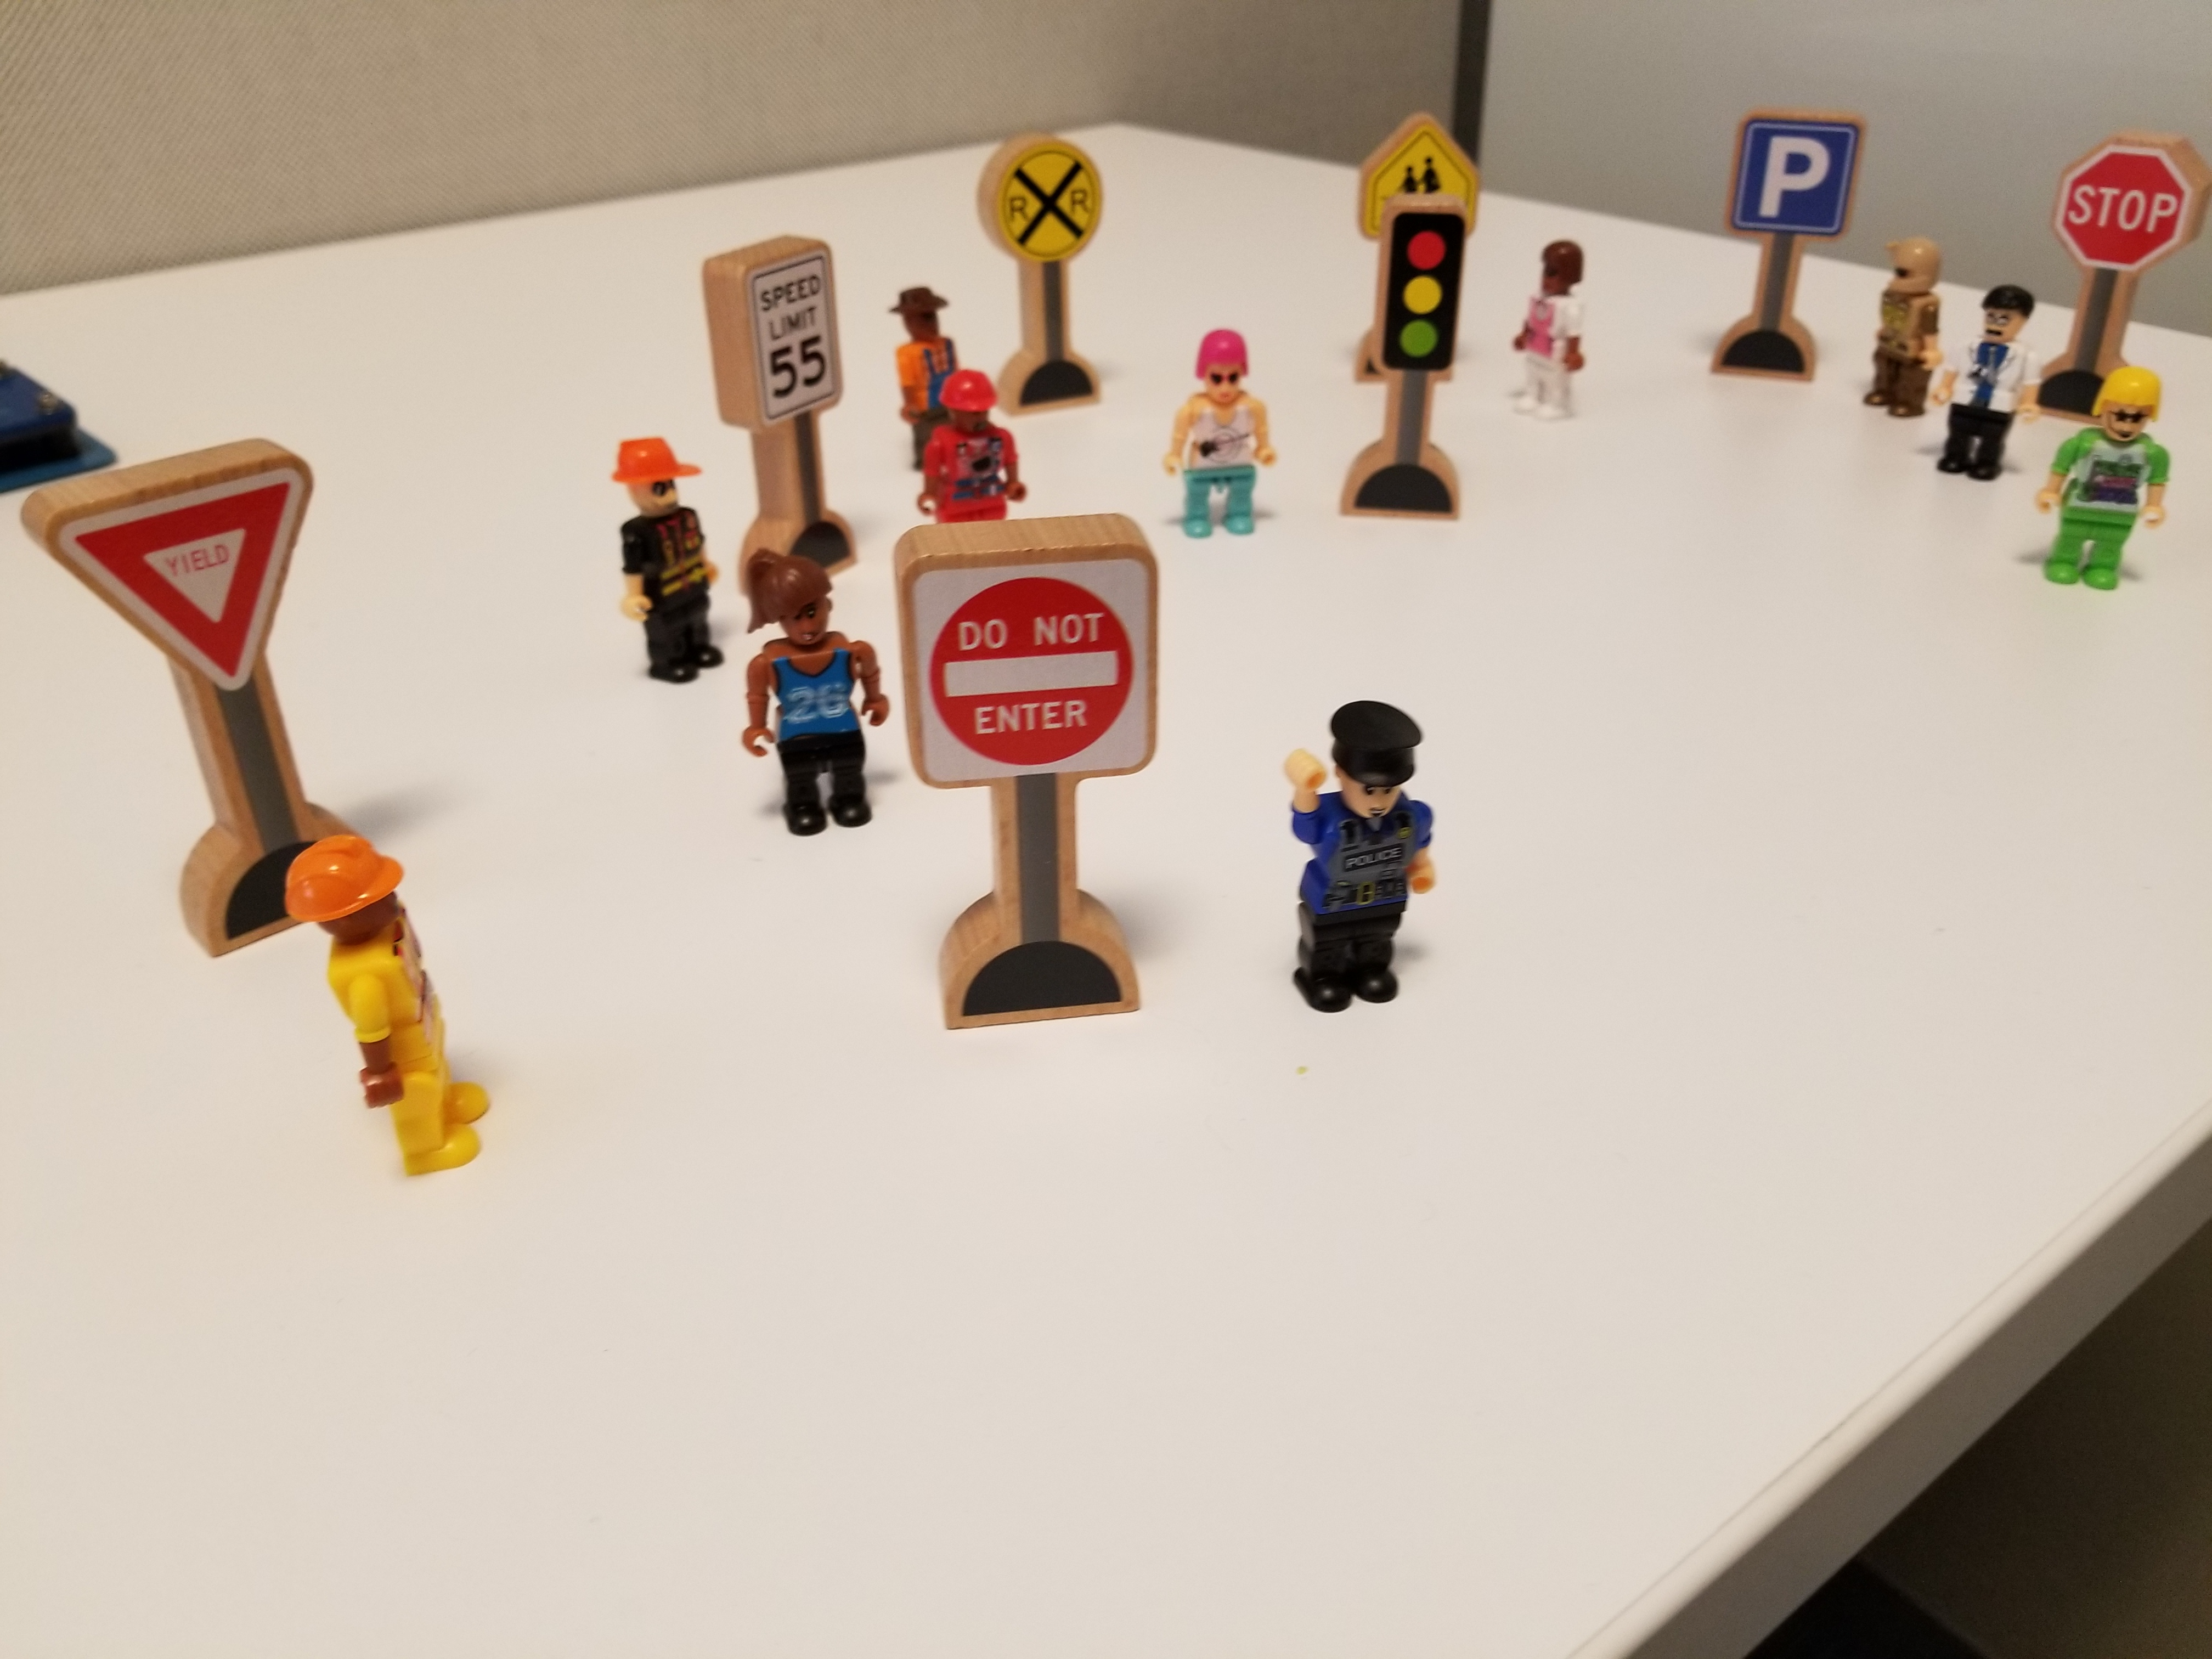Parking: (1726, 95, 1855, 379)
Railroad Crossing: (964, 133, 1120, 337)
Speed limit 55: (686, 240, 864, 455)
Stop: (2040, 109, 2196, 302)
Traffic Light: (1359, 172, 1485, 552)
Yield: (14, 447, 332, 725)
person: (256, 822, 526, 1204), (1261, 684, 1478, 1017), (723, 539, 892, 846), (2040, 350, 2185, 637), (578, 405, 721, 688), (1149, 315, 1318, 545), (910, 357, 1048, 510), (1945, 260, 2035, 495), (1520, 225, 1621, 422), (1884, 212, 1939, 418)
